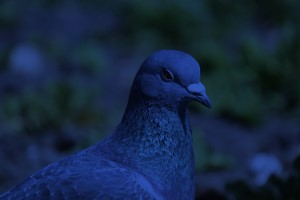pigeon: (80, 44, 226, 200)
